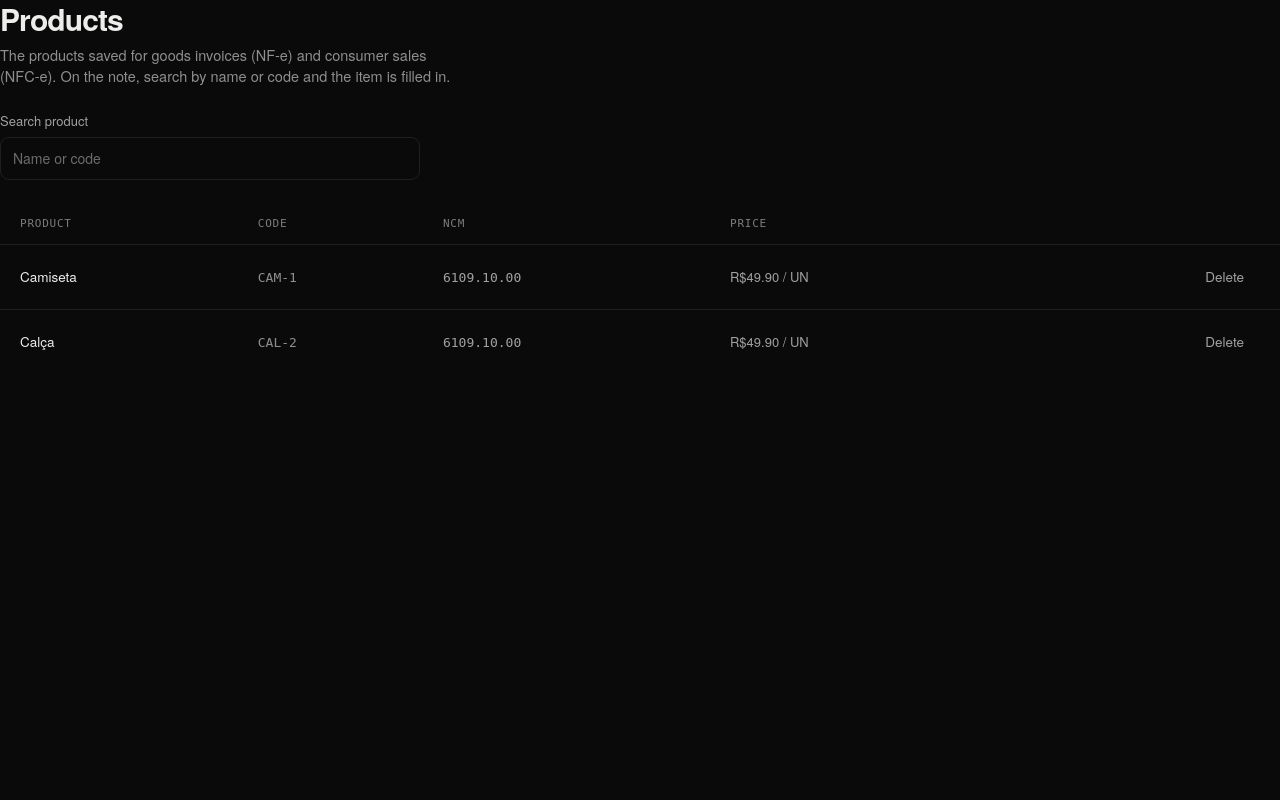
Test case: Products page › asks before removing a product
Step 1. Click the button with aria-label "Delete Camiseta" → (1225, 277), box [1189,259,1260,295]
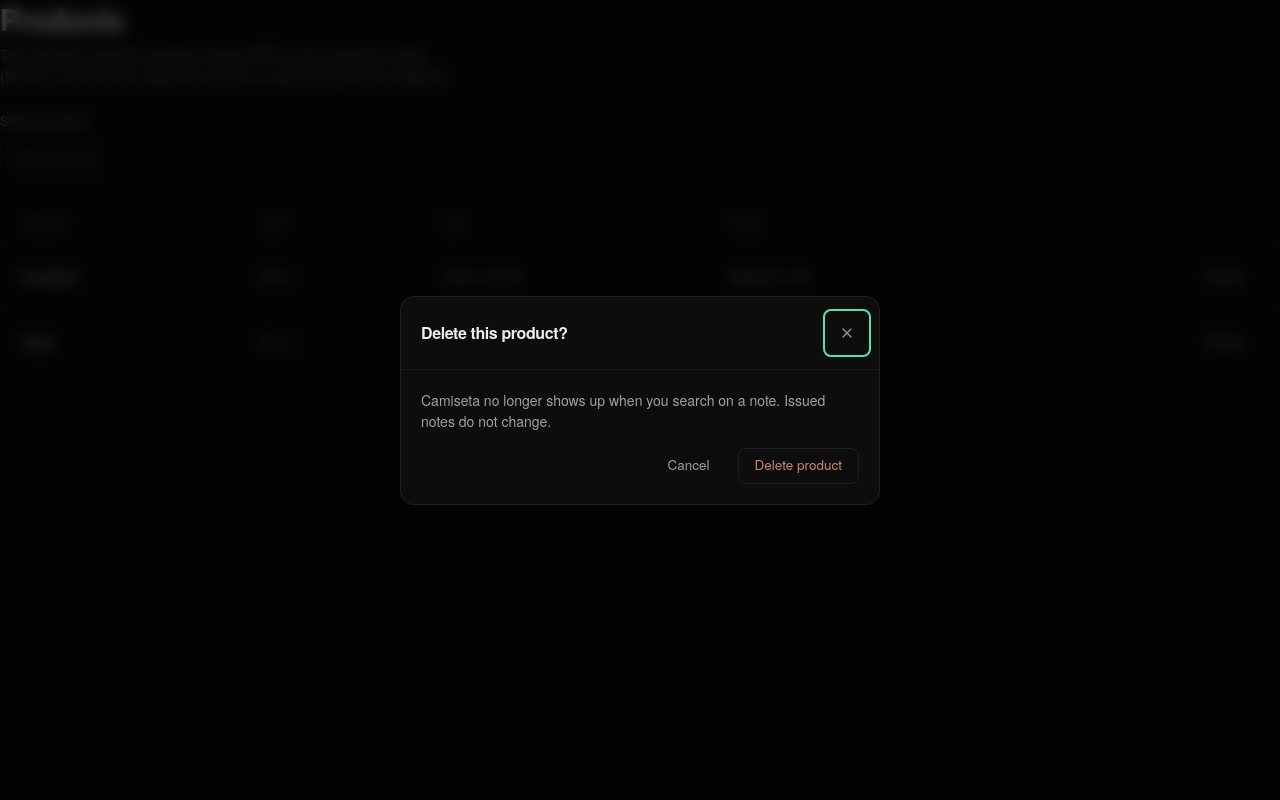
Step 2. Click the button "Delete product" → (798, 466), box [738,448,859,484]
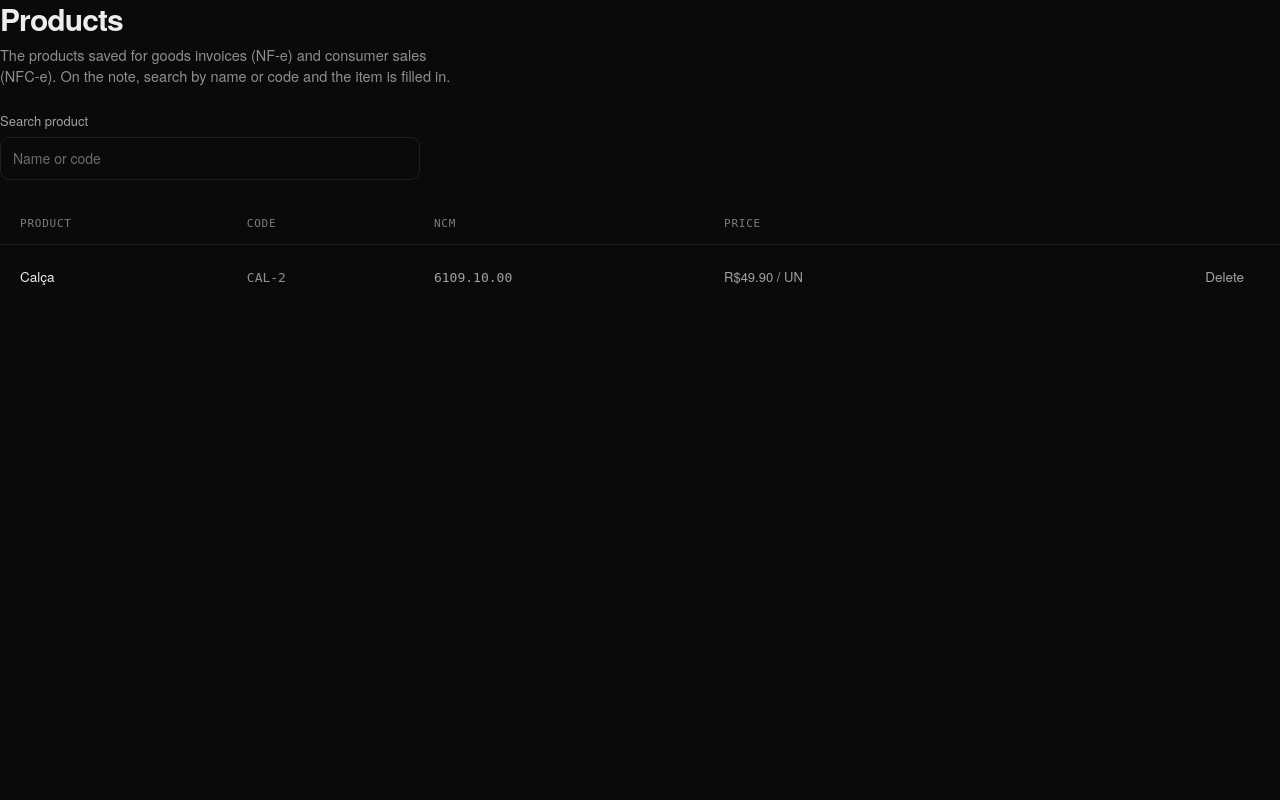
expect the text "Camiseta" is gone: met
